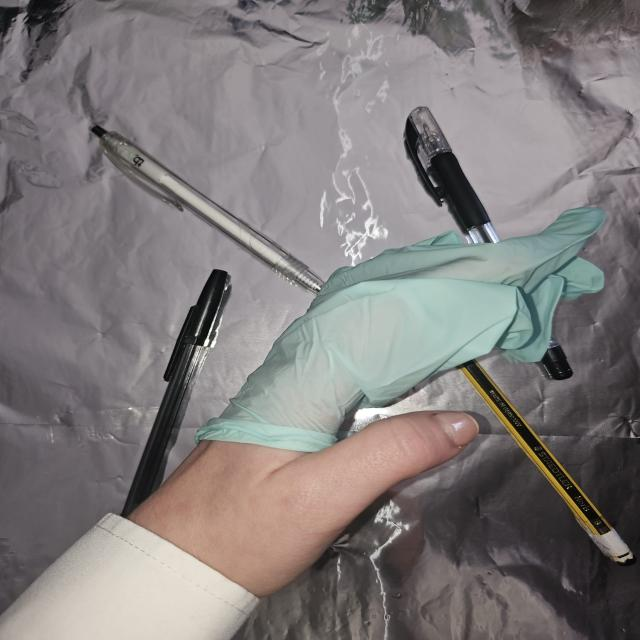glove_partial: (121, 206, 606, 598)
